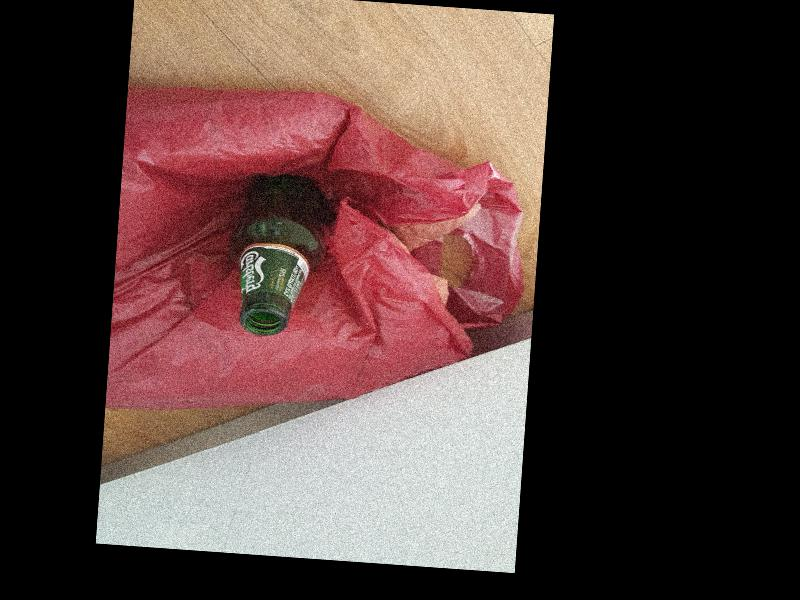Beer: (225, 170, 330, 337)
